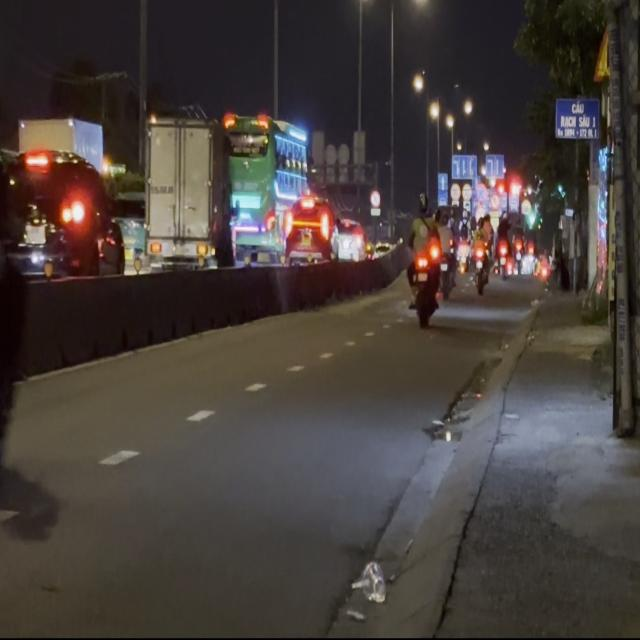licenseplate: (0, 29, 33, 546)
